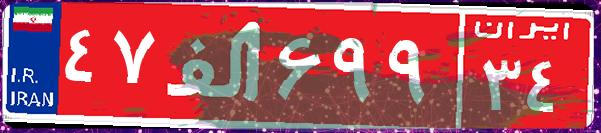3: (475, 38, 525, 113)
4: (57, 26, 110, 107), (525, 38, 570, 115)
6: (273, 28, 330, 110)
7: (110, 28, 158, 105)
9: (385, 28, 445, 110), (330, 28, 385, 110)
الف: (158, 15, 273, 115)
